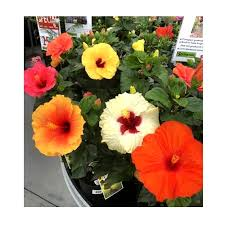hybiscus: (100, 92, 161, 155)
